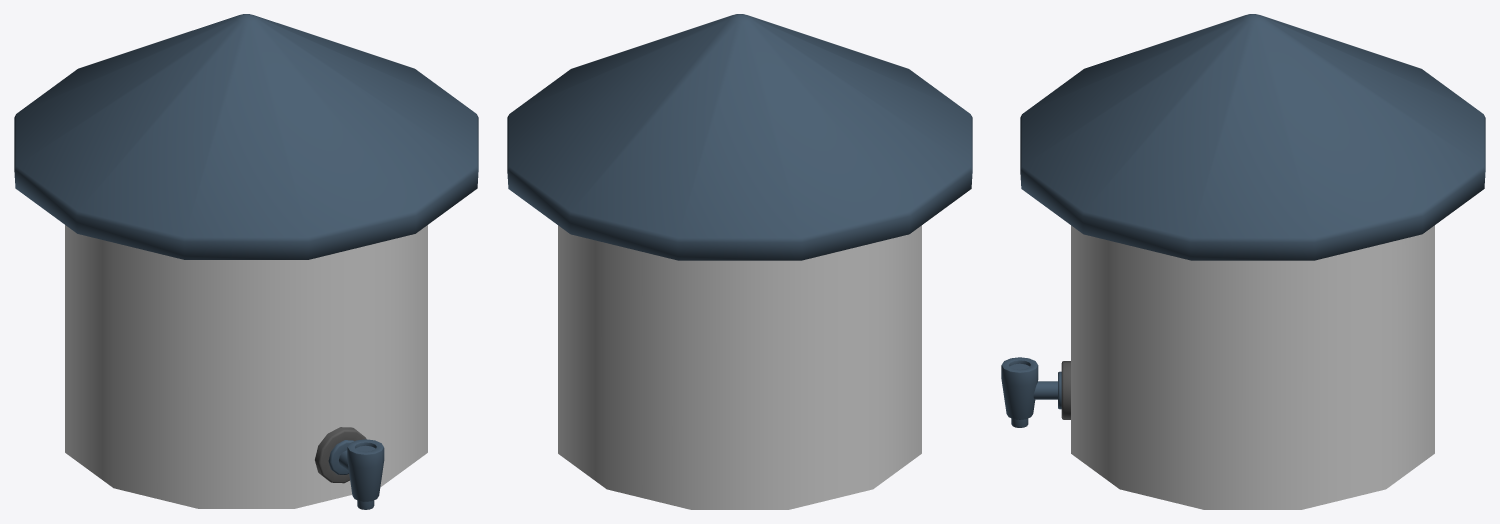
File: Water_Tank.fbx
3 views of the same model, side by side, from view 1: azimuth 30°, elevation 25°; view 2: azimuth 150°, elevation 25°; view 3: azimuth 270°, elevation 25° (orthographic).
Visible parts, largest first — view 1: Water_Tank; view 2: Water_Tank; view 3: Water_Tank.
Boxes of the visible parts, x1,y1,x2,y2 form: Water_Tank: (14, 14, 478, 509); Water_Tank: (507, 14, 972, 509); Water_Tank: (1001, 14, 1485, 509).
Bounding box in the file's own units: 2799 × 2777 × 2913.
